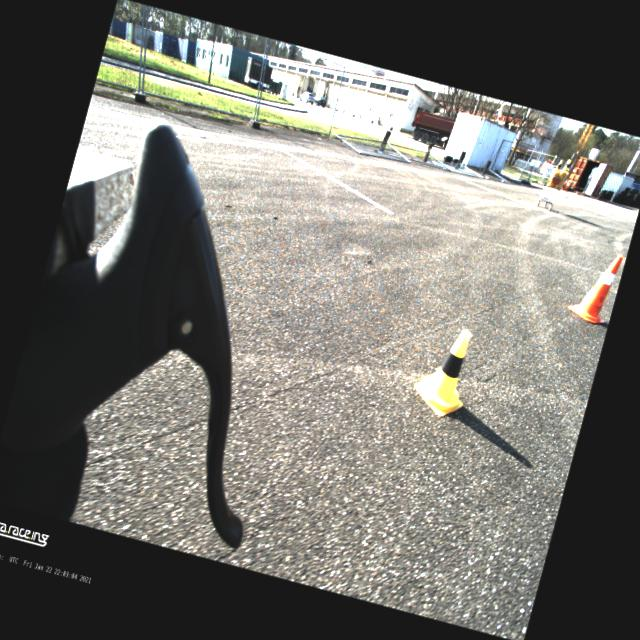large_orange_cone: (566, 246, 622, 326)
yellow_cone: (408, 320, 481, 420), (554, 158, 562, 173), (563, 158, 572, 170)
